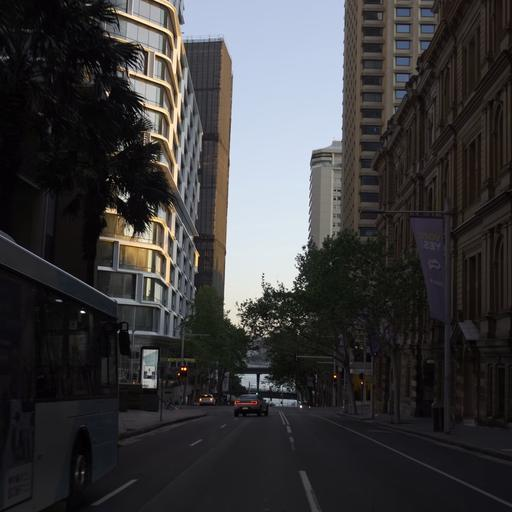Street light: (358, 205, 456, 433), (179, 330, 209, 404), (180, 365, 188, 375), (331, 372, 337, 382)
